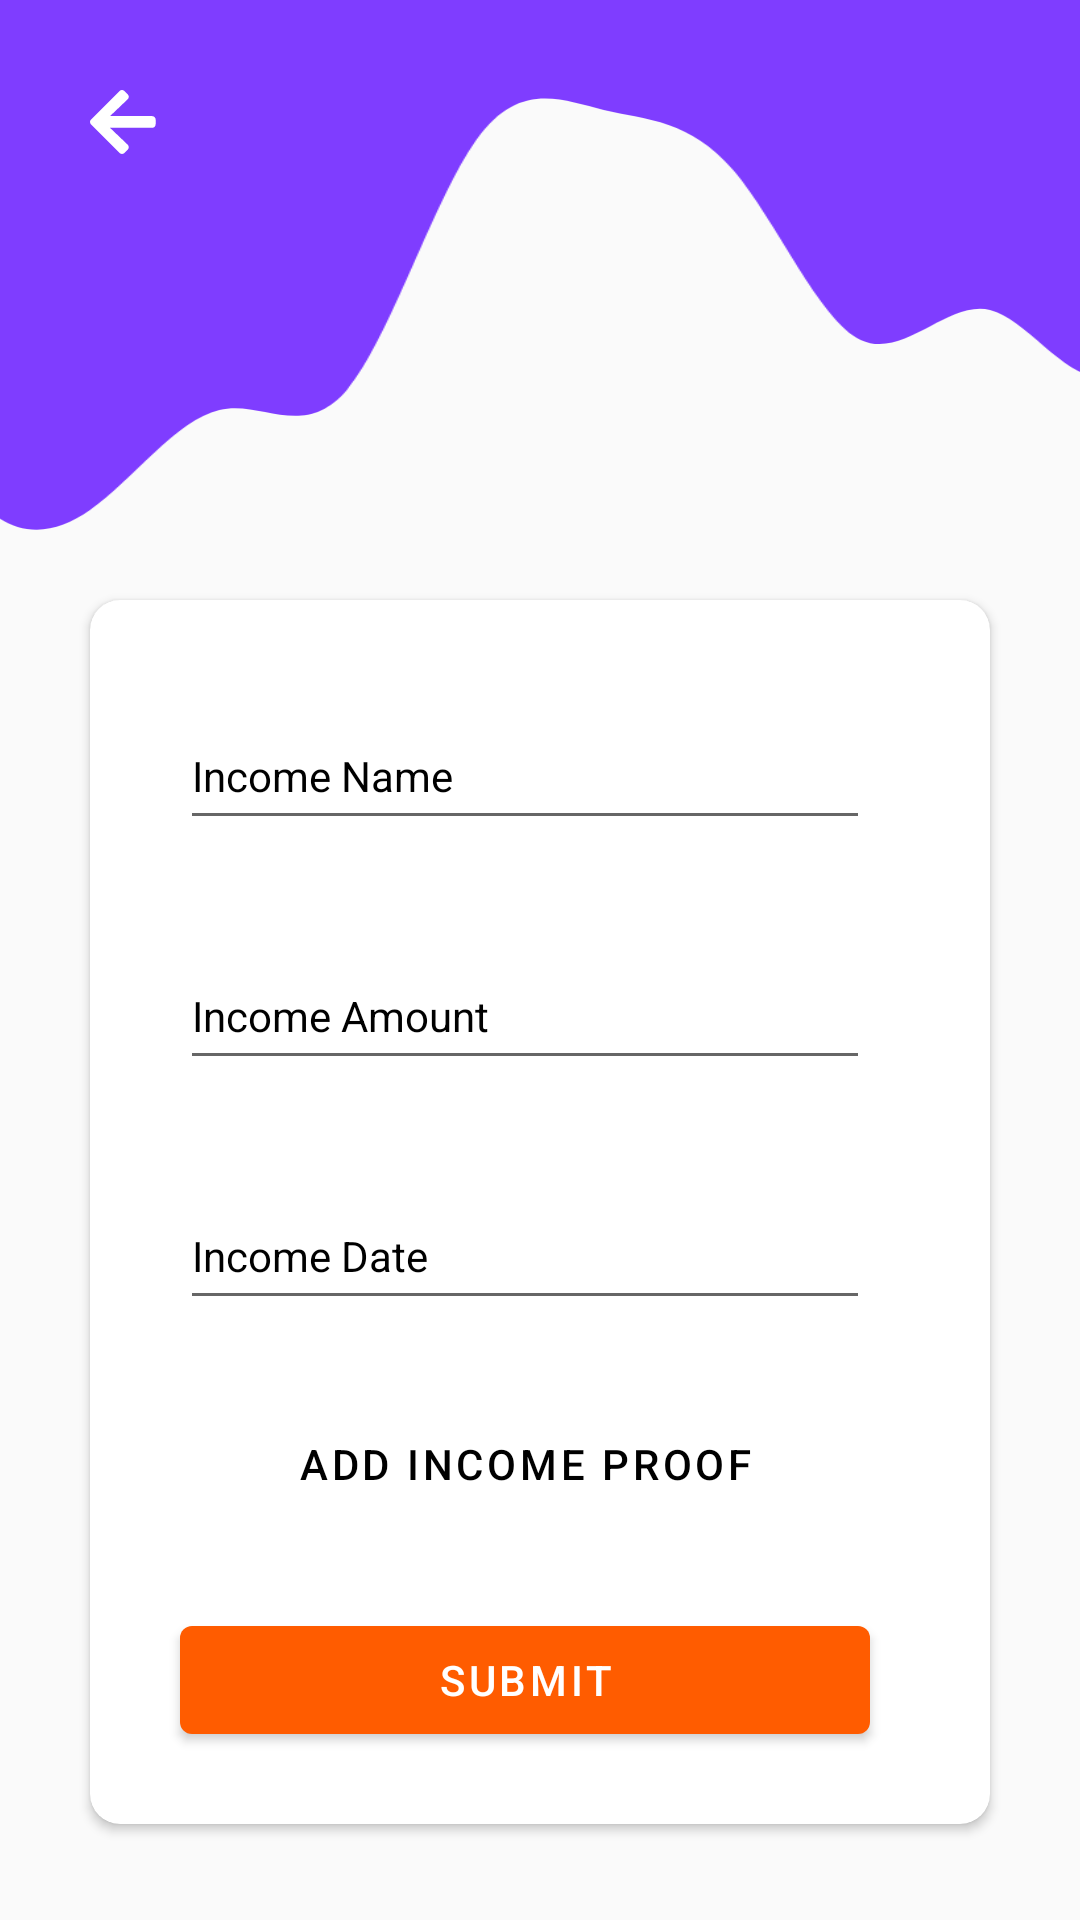

Icon bounding boxes for this 1080×1920 phone screenshot, format BBox(x1, y1, x2, y2):
back arrow: BBox(90, 90, 156, 154)
